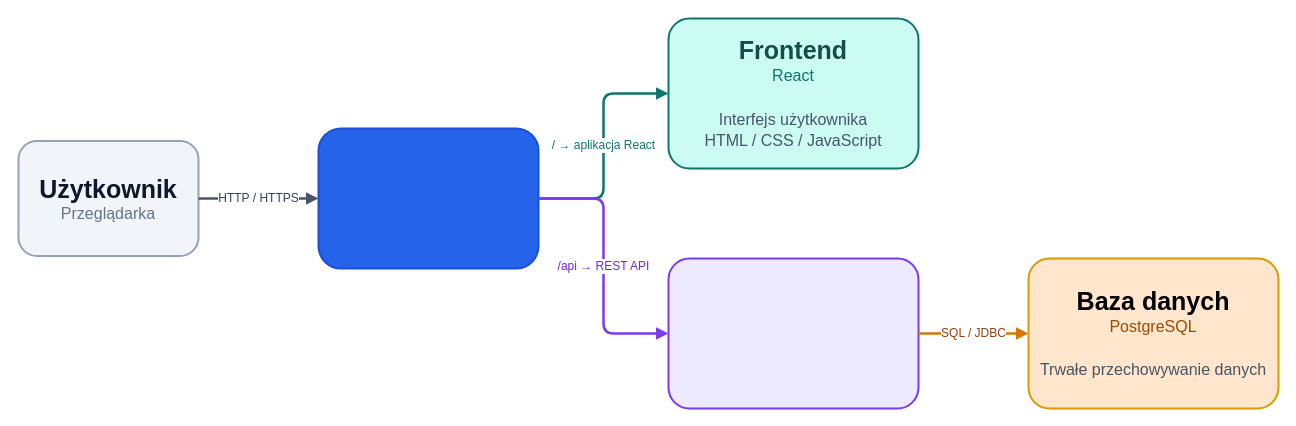
Image size: 1296x426. Some labels were removed from this diagram. Here are the shapes that lost their labels. From the top down, the centre of each, then its label:
point (428, 198): NGINX Reverse proxy Routing: / oraz /api
point (793, 333): Backend Spring Boot REST API Logika biznesowa
